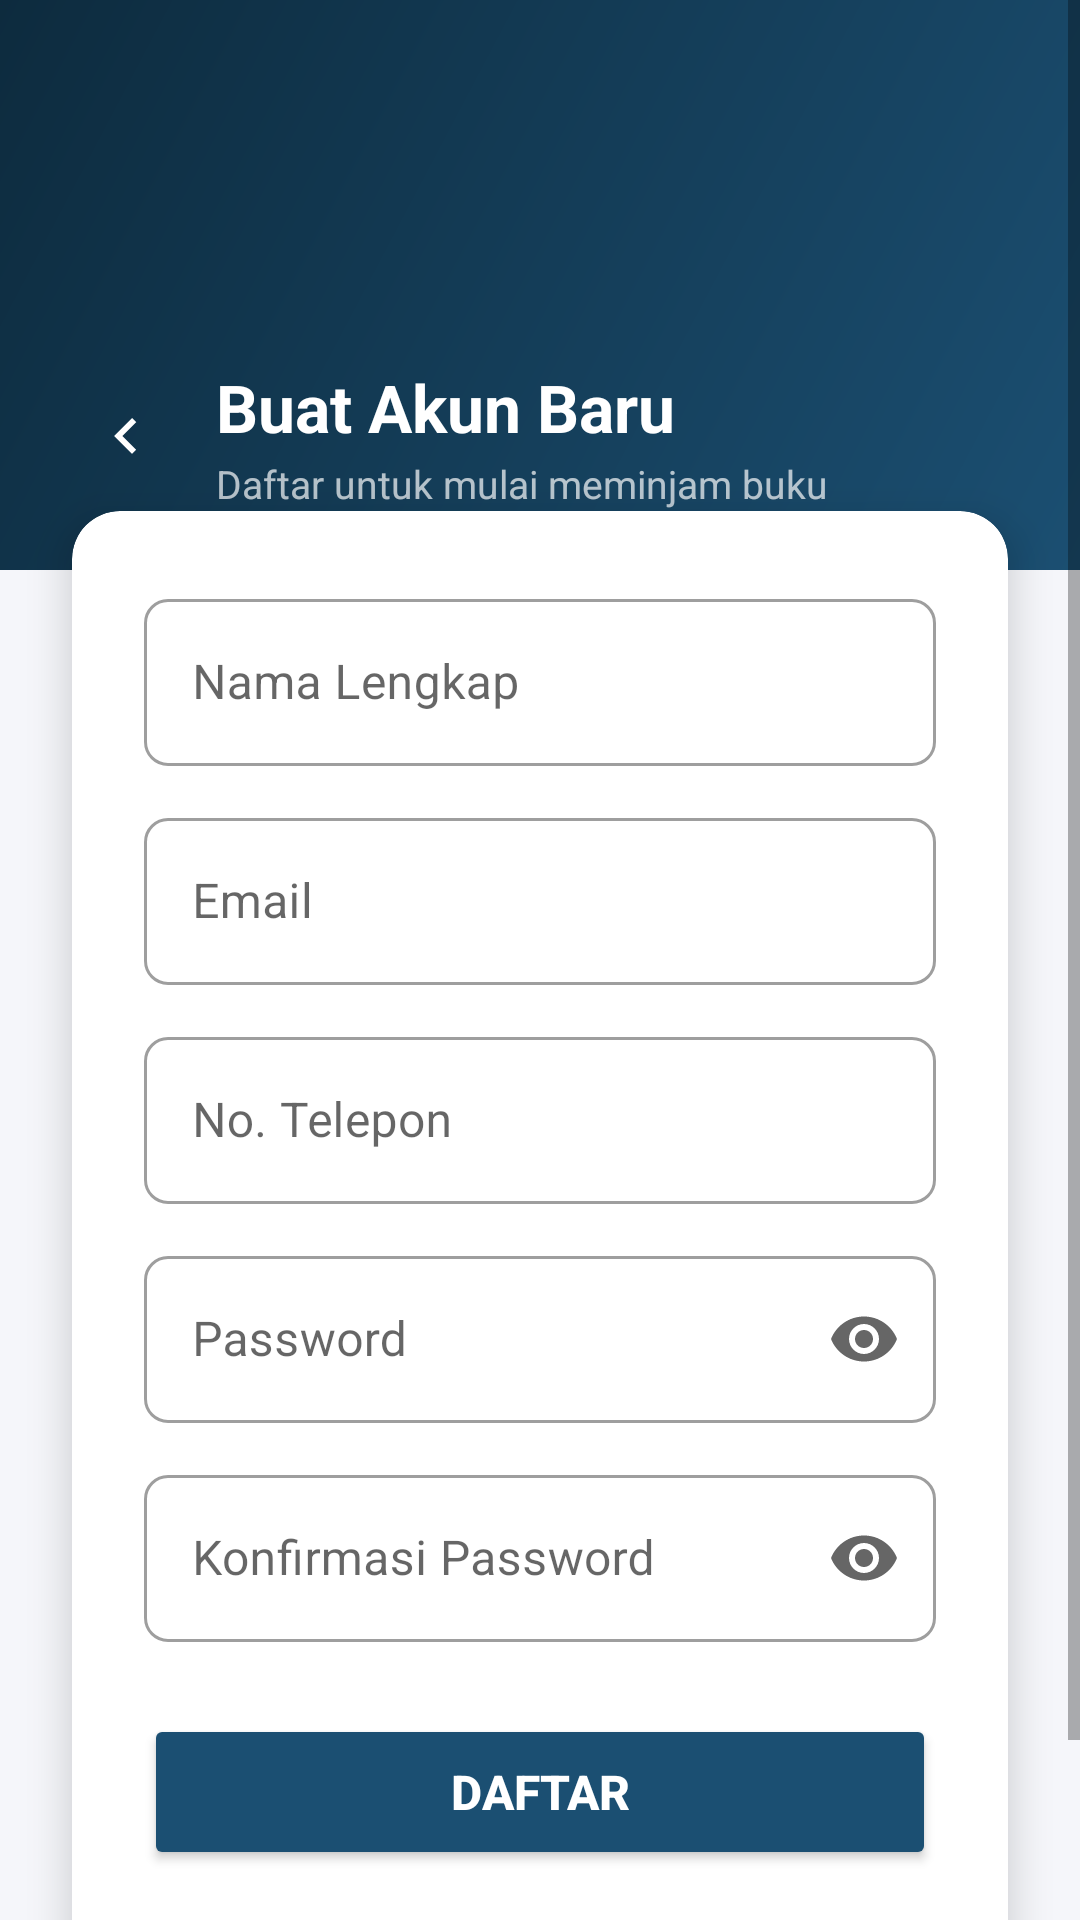

Icon click points for this 1080w x 1920h phone screenshot, format (x=x, y=y):
Back: (x=125, y=436)
